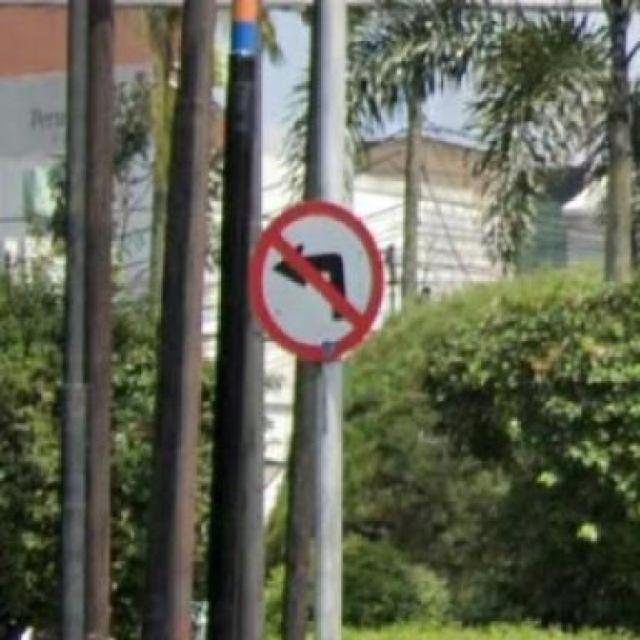left turn prohibited: (242, 197, 383, 356)
